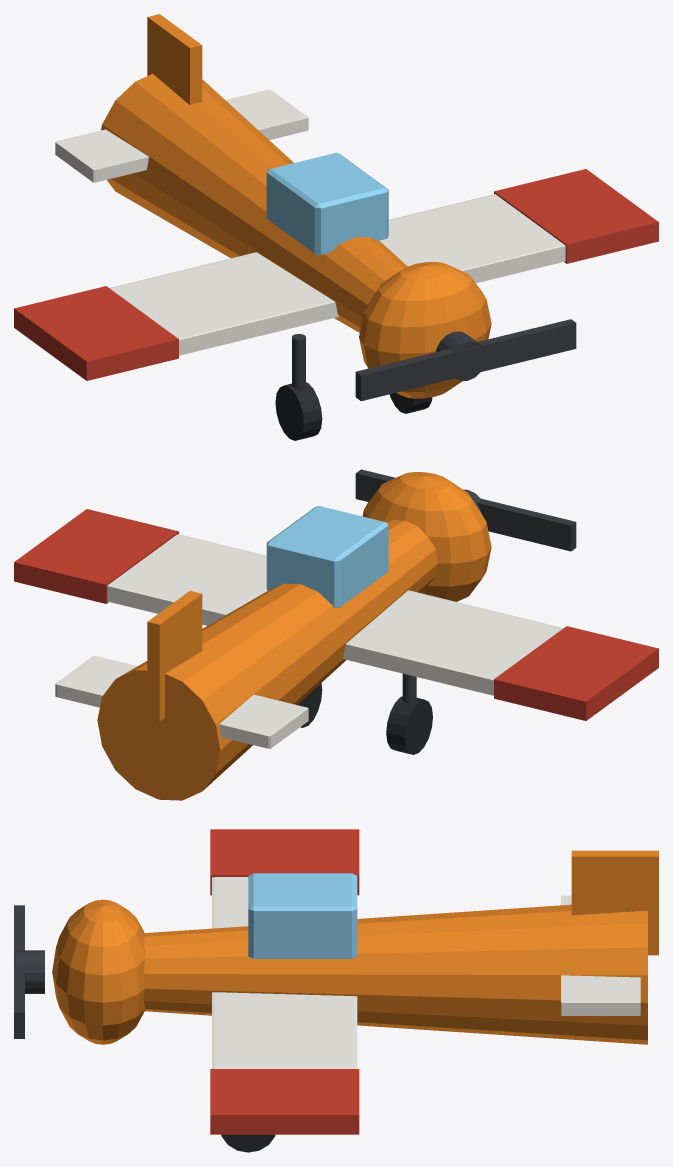
3 renders of one model, top to bottom at view 1: azimuth 30°, elevation 25°; view 2: azimuth 150°, elevation 25°; view 3: azimuth 270°, elevation 25°, orthographic. The views are drawn at different scales.
Parts seen in each view (by area): view 1: plane; view 2: plane; view 3: plane.
Part boxes in pixels (x1,y1,x2,y2): plane: (14, 14, 658, 440); plane: (14, 469, 658, 800); plane: (14, 829, 658, 1152).
Bounding box in the file's own units: 1.86 × 0.81 × 1.78.
